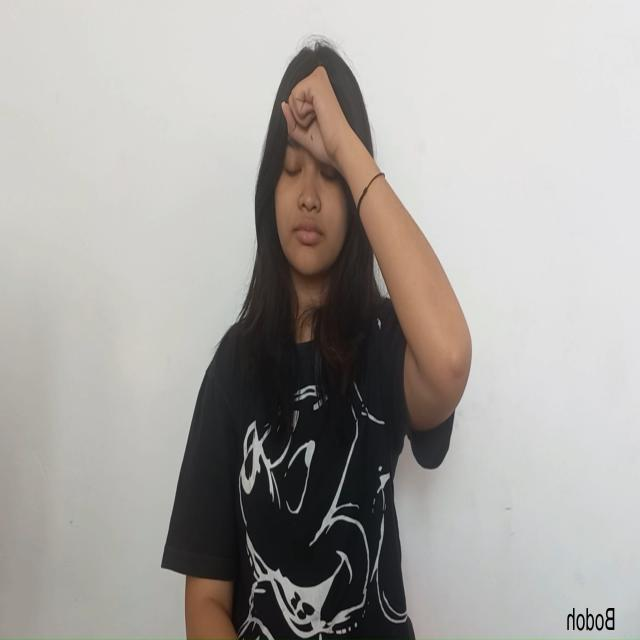Bodoh -BISINDO-: (279, 63, 350, 174)
